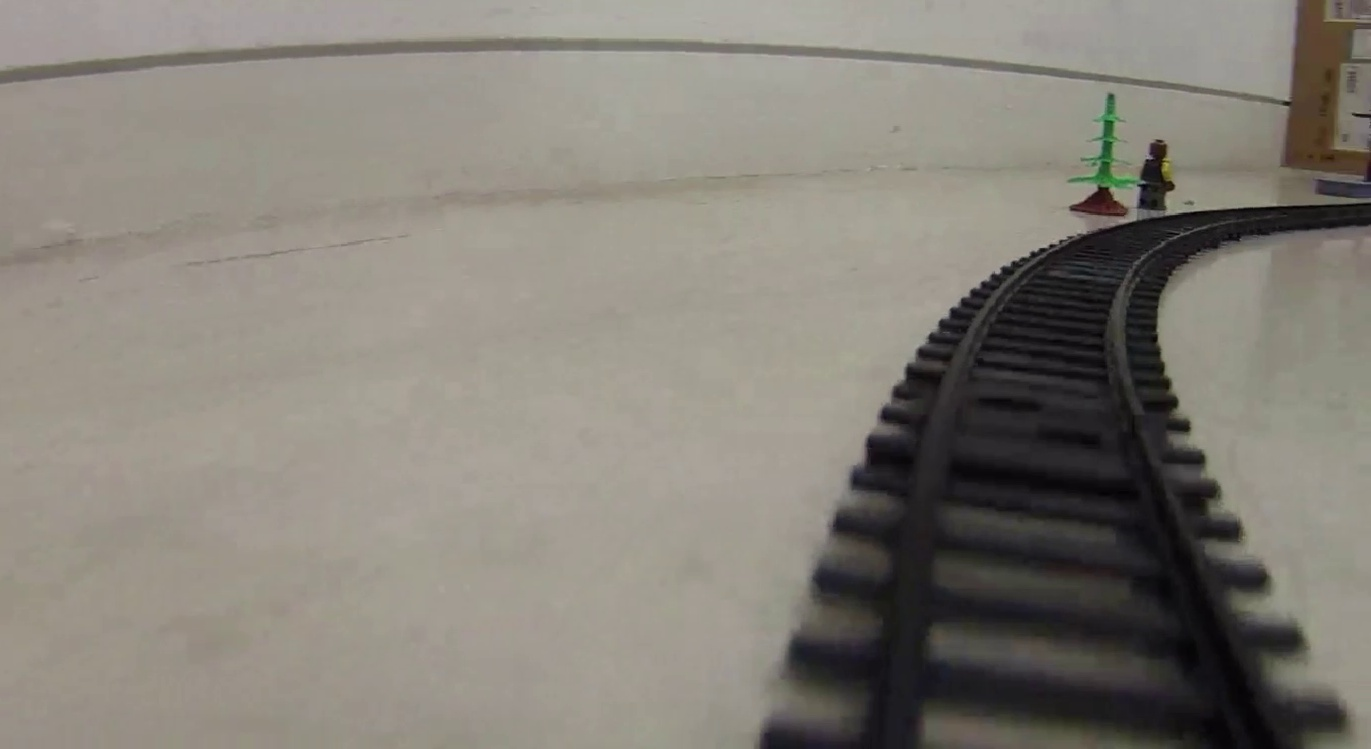people: (1140, 139, 1176, 209)
tree: (1066, 94, 1138, 218)
